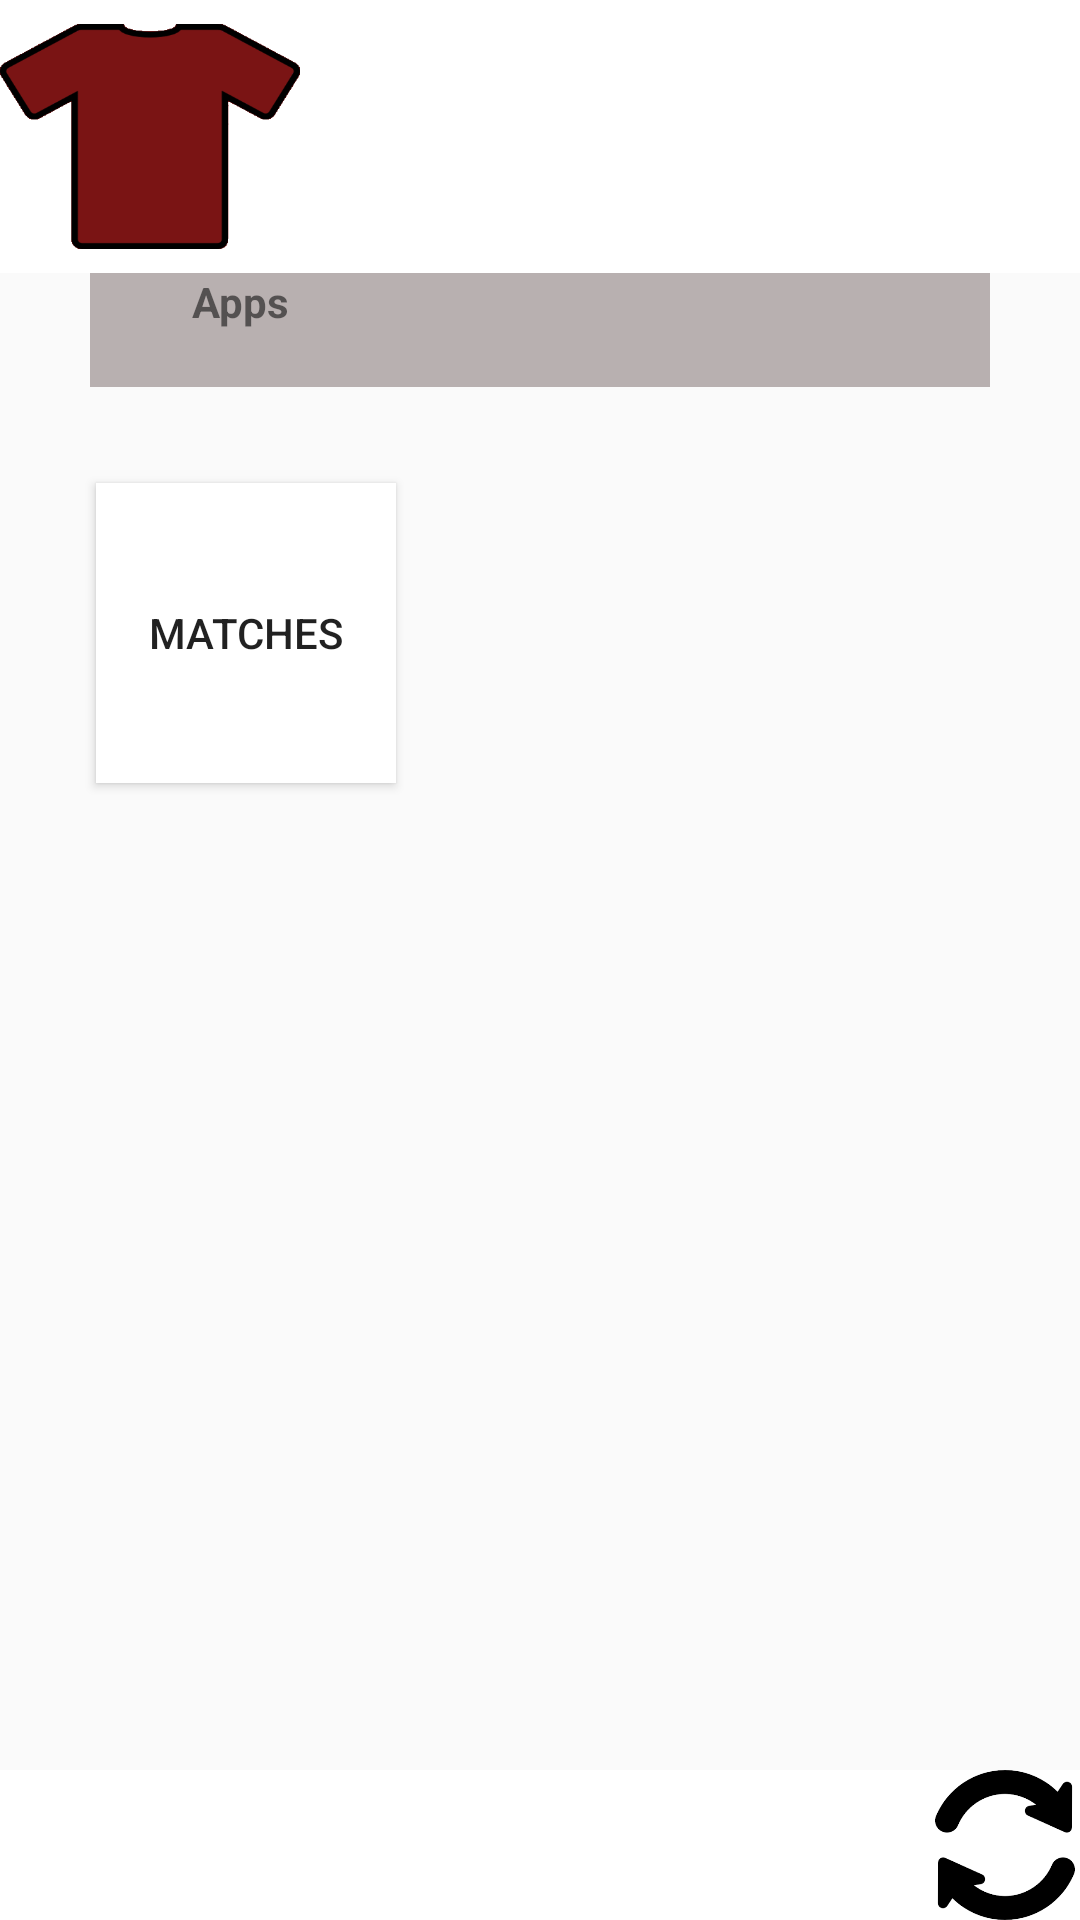

Locate icon controls on the screen. Image size 1080px x 1920px, boxes as (x1, y1, x2, y2).
emptyshirt: (0, 24, 300, 249)
refreshbutton: (935, 1770, 1075, 1920)
